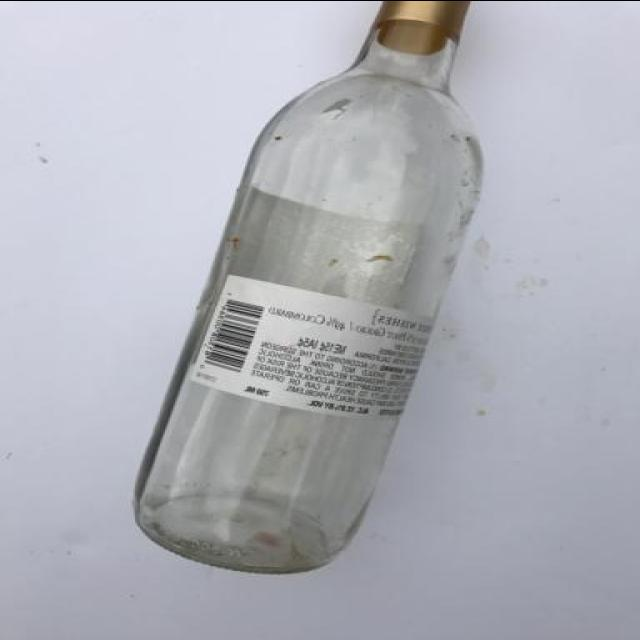glass: (111, 0, 528, 633)
